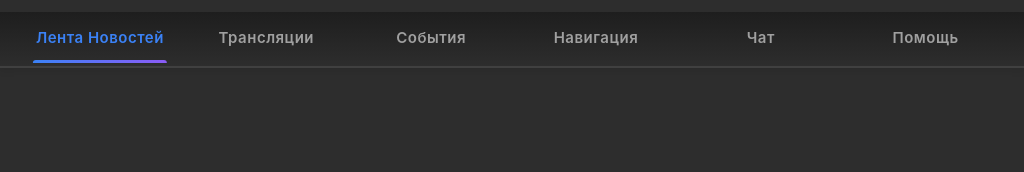
NavTabs › renders split tabs for chat on hover
Hover over the text "Чат" at coordinates (761, 39), box 678,12 -> 843,66
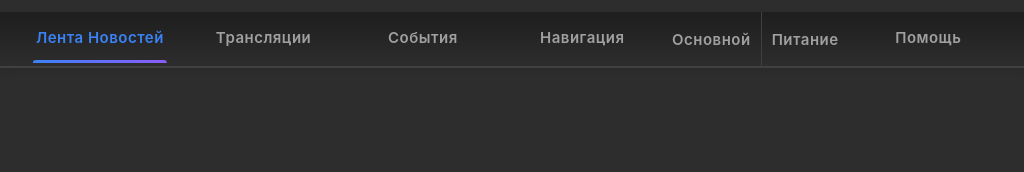
Result: the button "Основной" is shown at 662,12 -> 762,66
